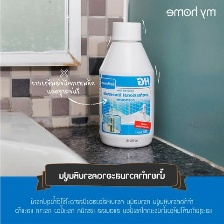cleaning_solution: (96, 20, 158, 151)
